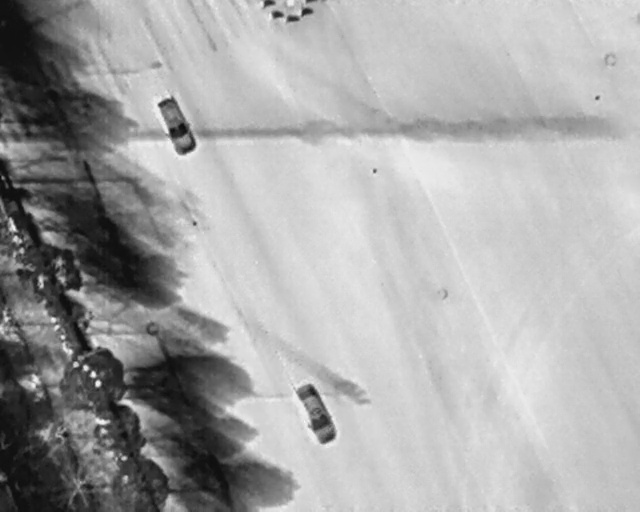Car: (288, 378, 342, 450), (153, 92, 201, 158)
